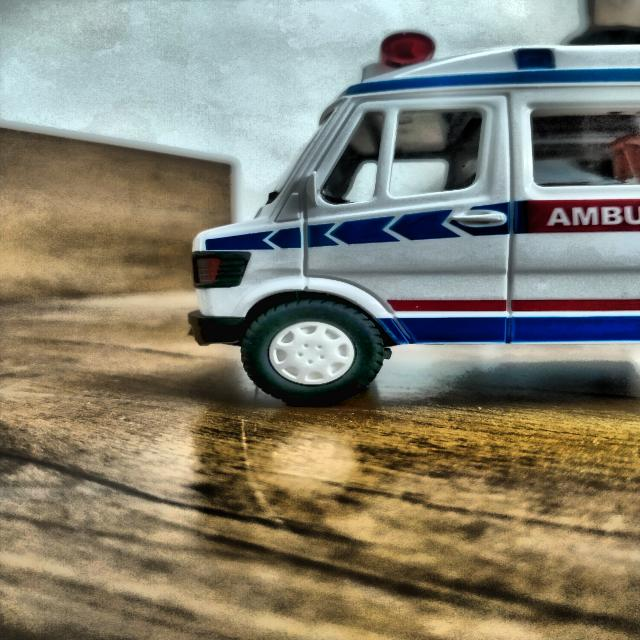Ambulance: (173, 24, 640, 449)
